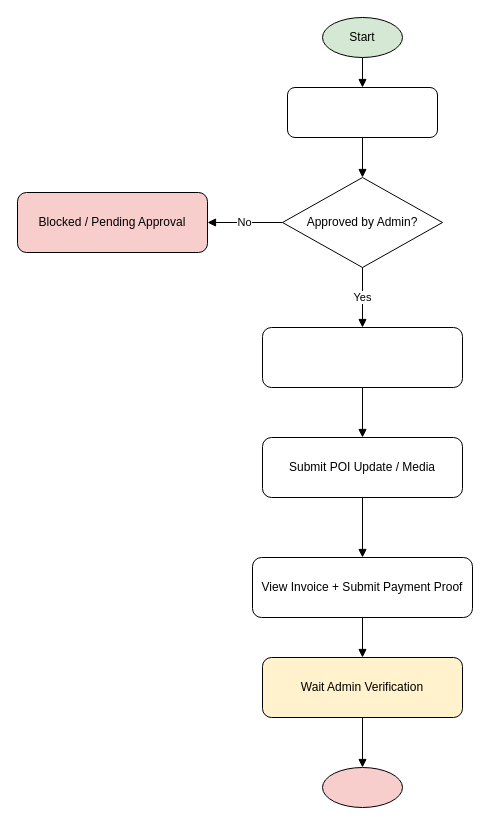
Image size: 490x825. Some labels were removed from this diagram. Each missing label, with the box of its shape:
End: (322, 766, 402, 808)
Update Profile / Password: (262, 326, 462, 388)
Vendor Login/Register: (286, 86, 438, 138)
